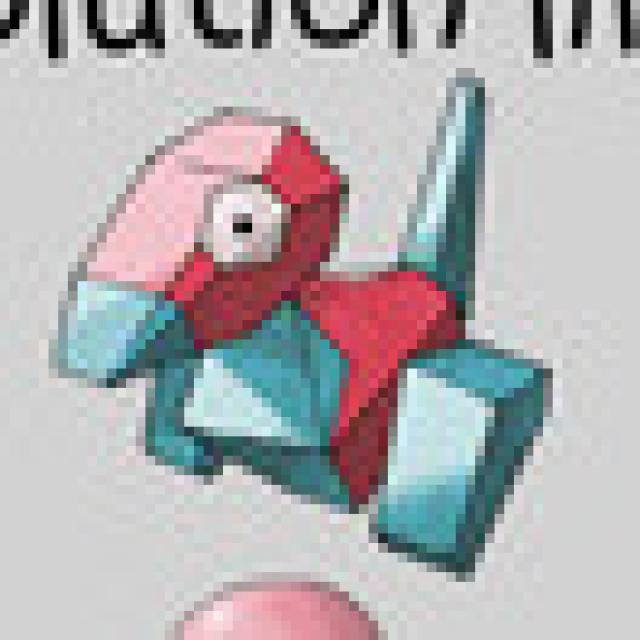Porygon: (53, 104, 495, 572)
